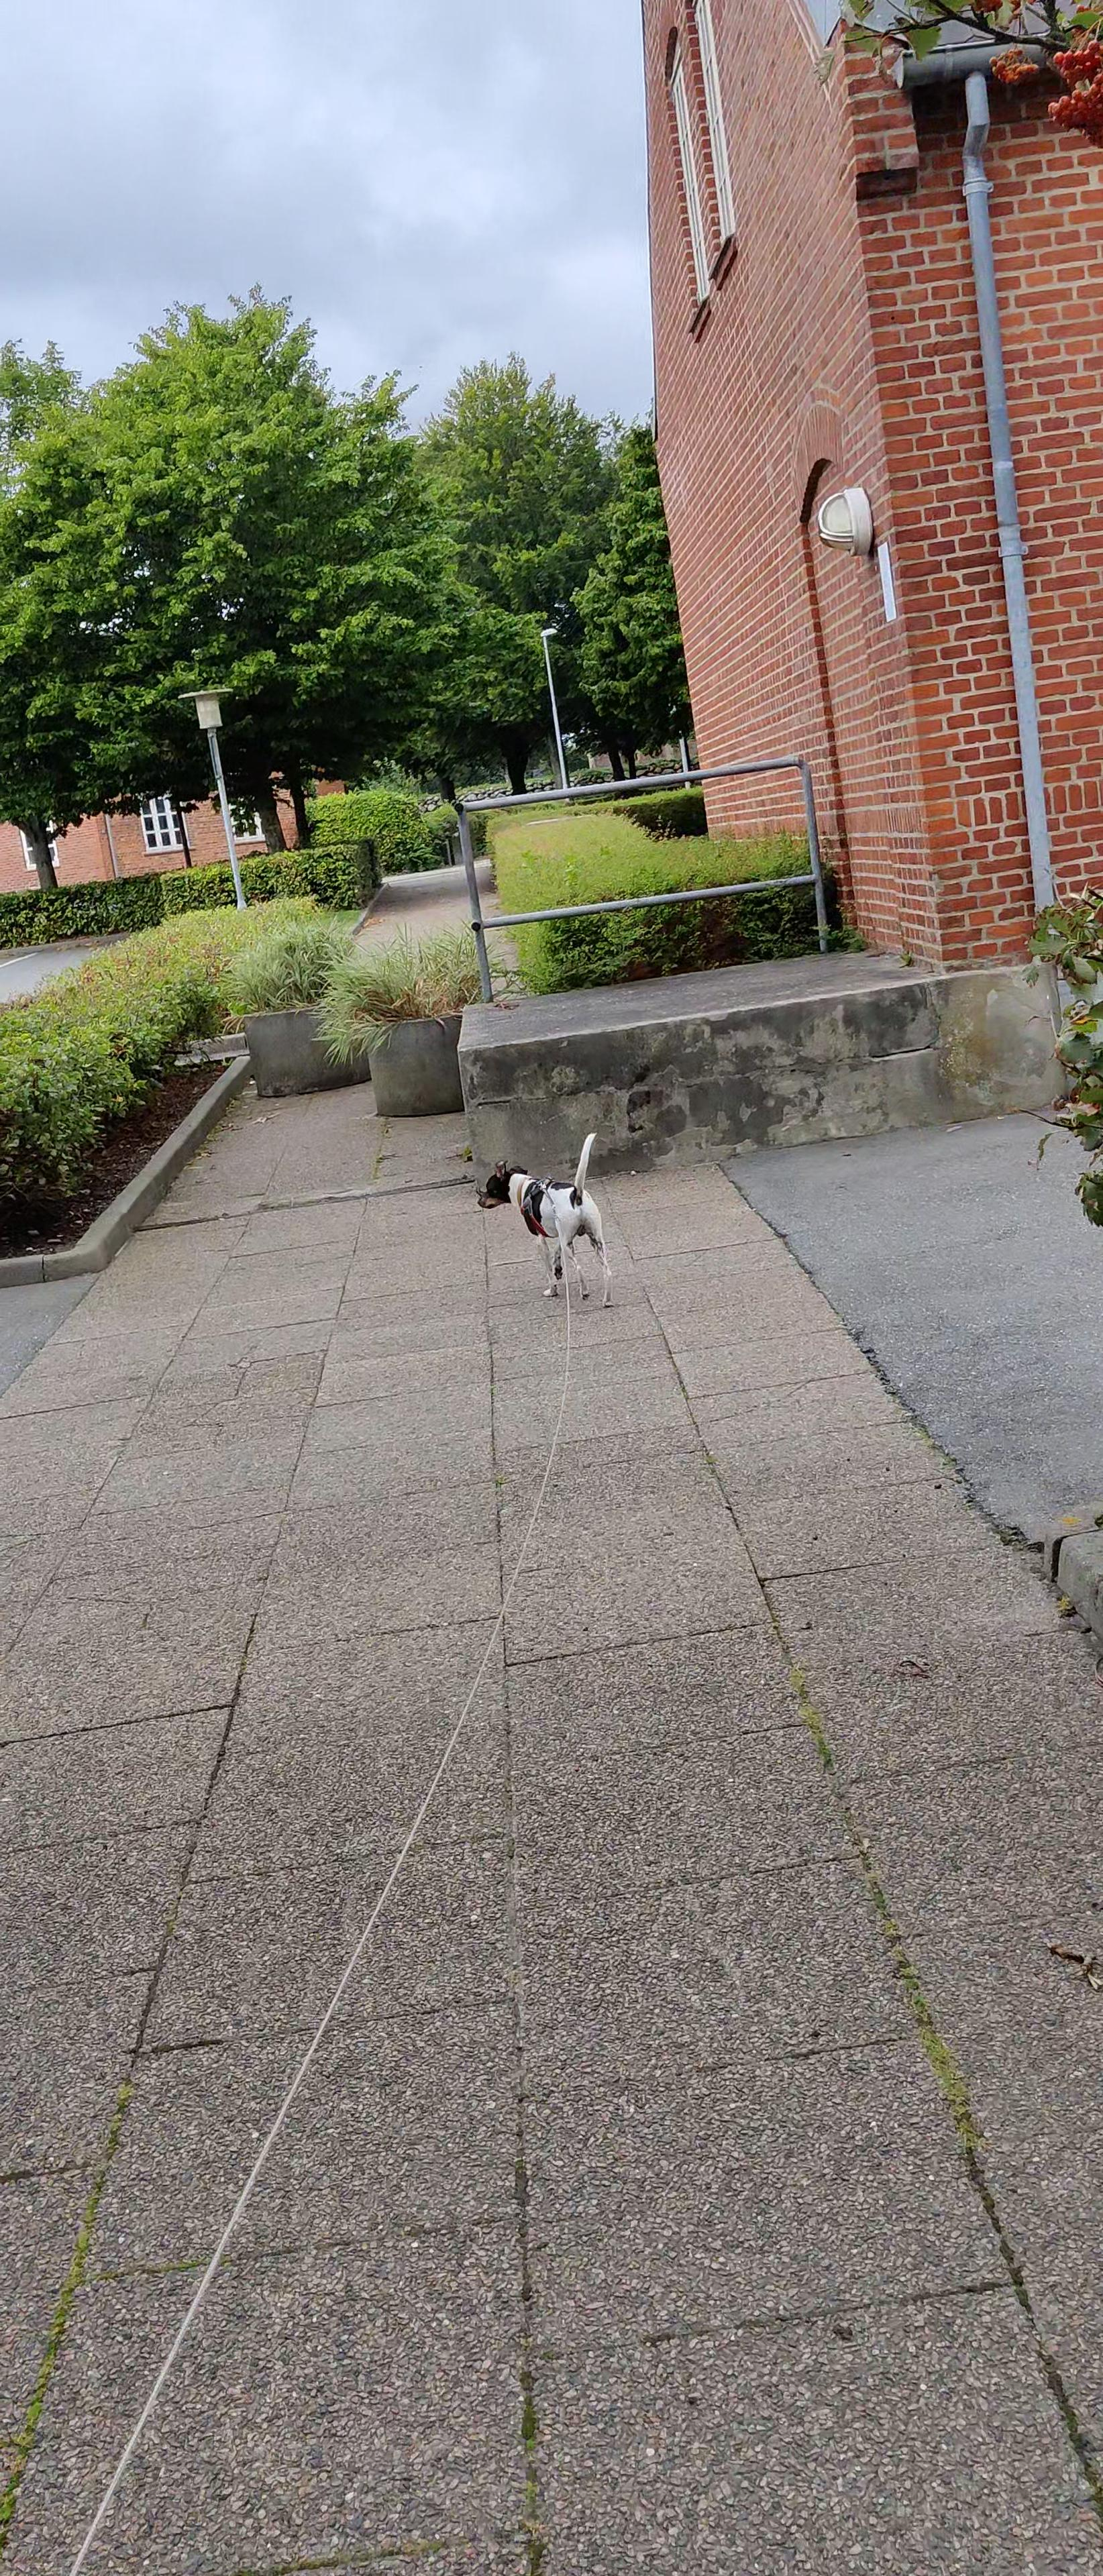Dog: (473, 1125, 616, 1311)
